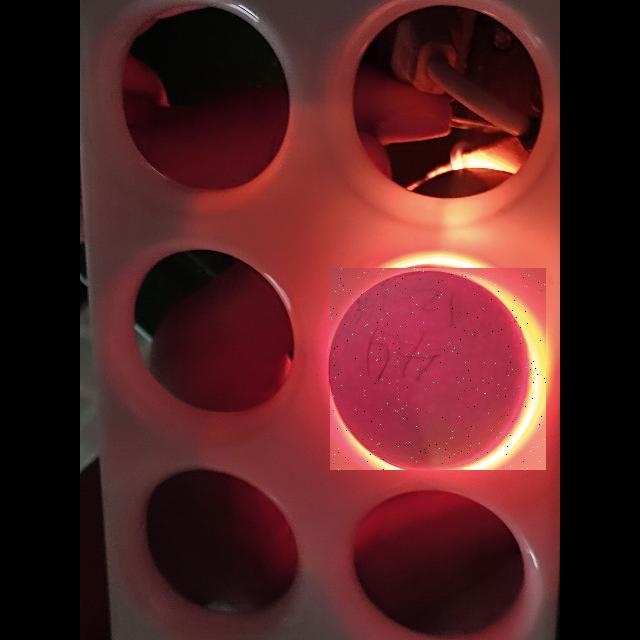Fertile: (330, 268, 546, 470)
